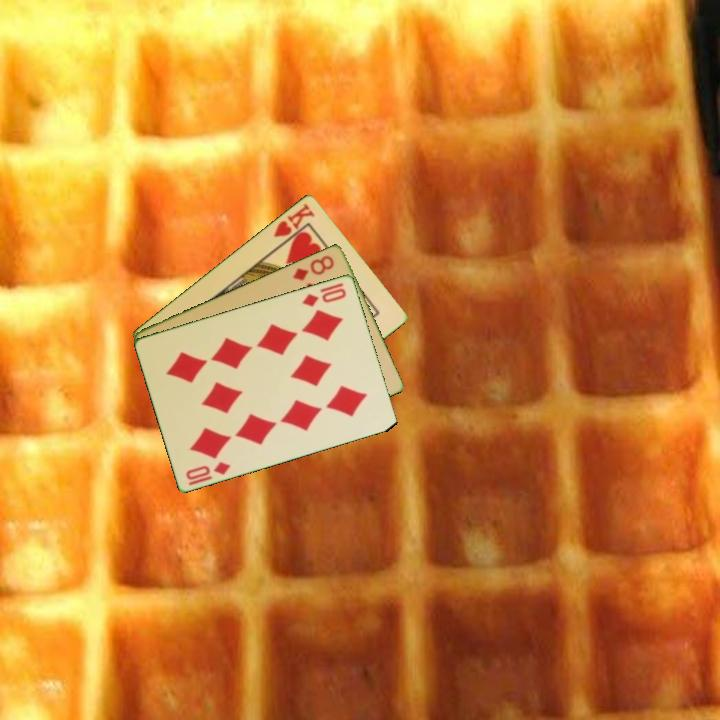10d: (299, 284, 349, 309), (182, 458, 233, 482)
8d: (289, 251, 337, 283)
Kh: (270, 199, 318, 249)
